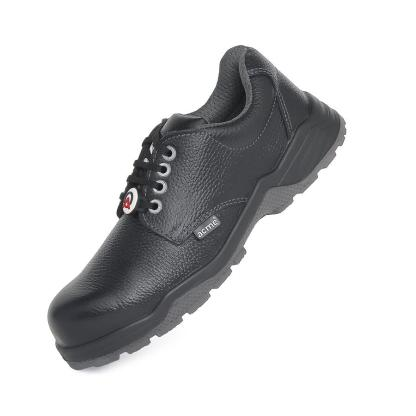bota: (42, 40, 352, 375)
